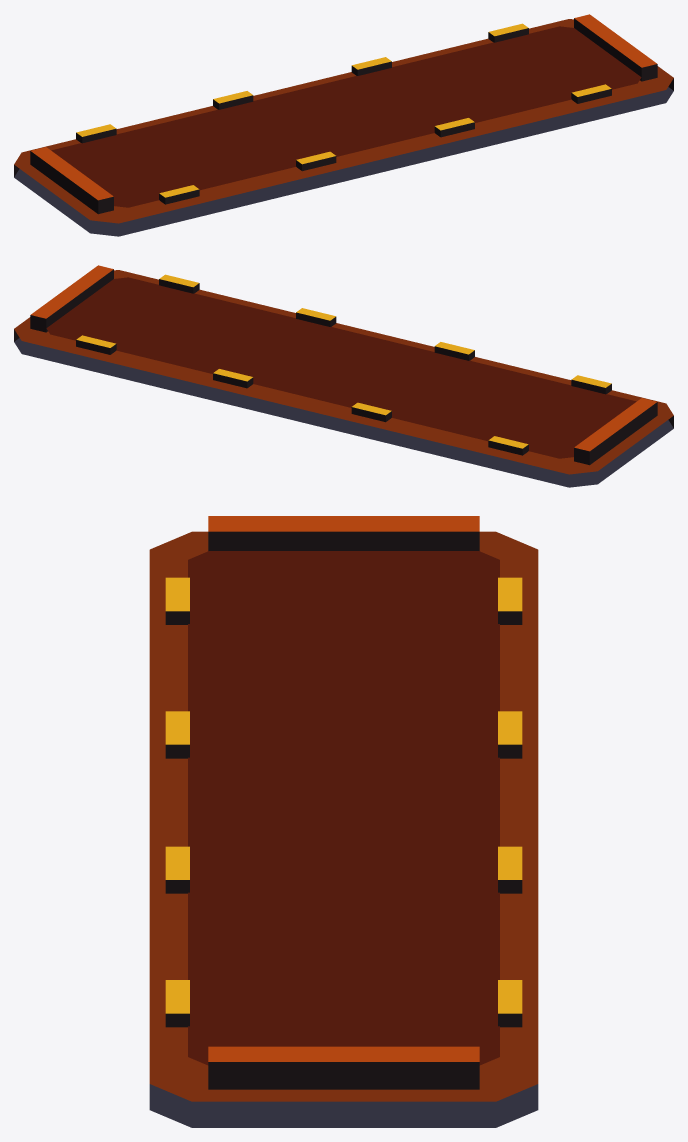
File: star_garden_dash_panel.obj
The picture shows the model from 3 angles, top to bottom: view 1: azimuth 30°, elevation 25°; view 2: azimuth 150°, elevation 25°; view 3: azimuth 270°, elevation 25°; orthographic projection. The views are drawn at different scales.
Parts seen in each view (by area): view 1: star_garden_dash_panel; view 2: star_garden_dash_panel; view 3: star_garden_dash_panel.
Part boxes in pixels (x1,y1,x2,y2): star_garden_dash_panel: [14, 14, 673, 236]; star_garden_dash_panel: [14, 265, 673, 487]; star_garden_dash_panel: [149, 516, 538, 1127].
Bounding box in the file's own units: 17.7 × 0.78 × 5.1.
